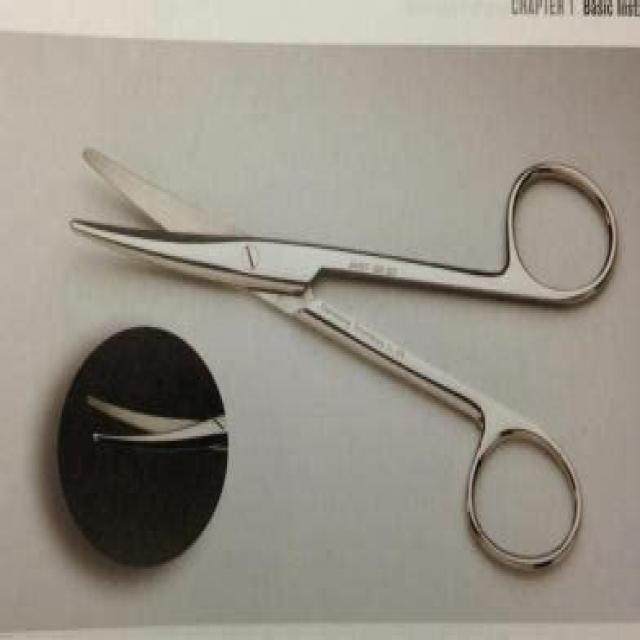Mayo_metz: (67, 144, 624, 584)
